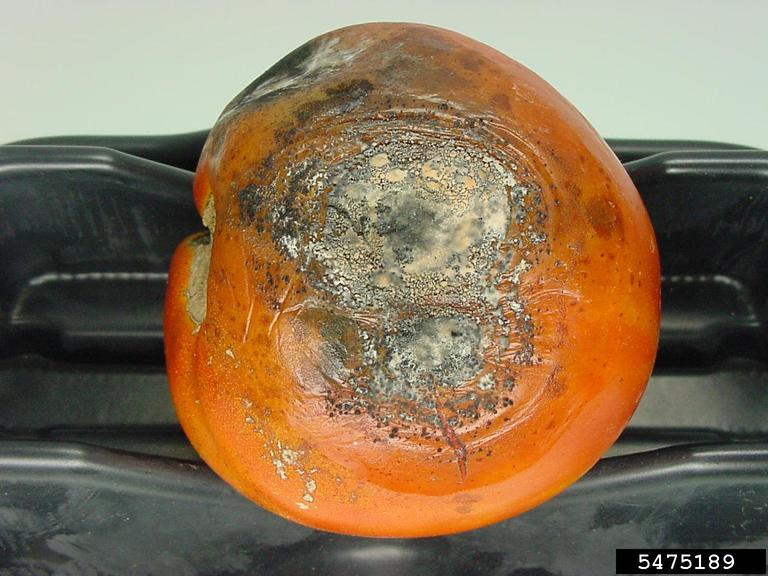anthracnose: (257, 92, 588, 457)
